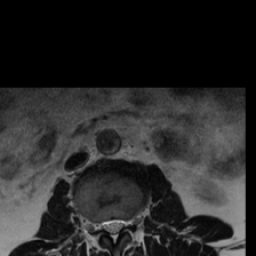CCS_normal: (109, 213, 117, 248)
LFS_stenosis: (126, 211, 135, 237)
LLS_stenosis: (117, 213, 126, 237)
RFS_normal: (94, 213, 101, 238)
RLS_normal: (101, 213, 109, 238)
